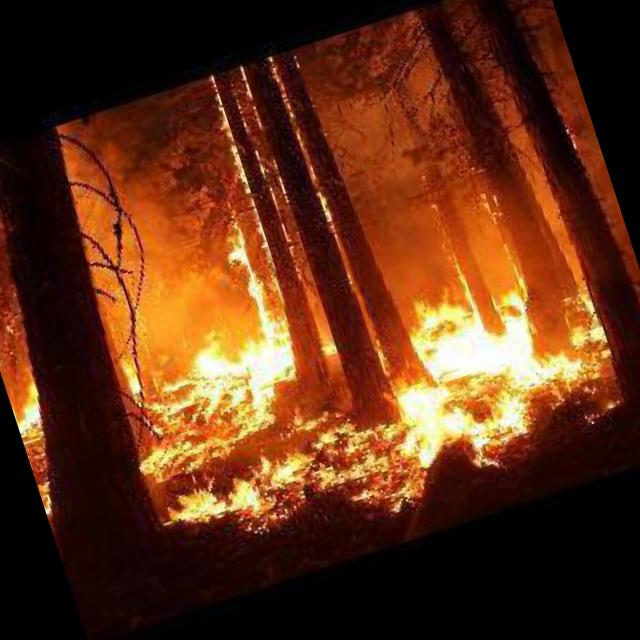fire: (107, 218, 640, 583), (2, 366, 91, 536), (210, 206, 296, 346)
